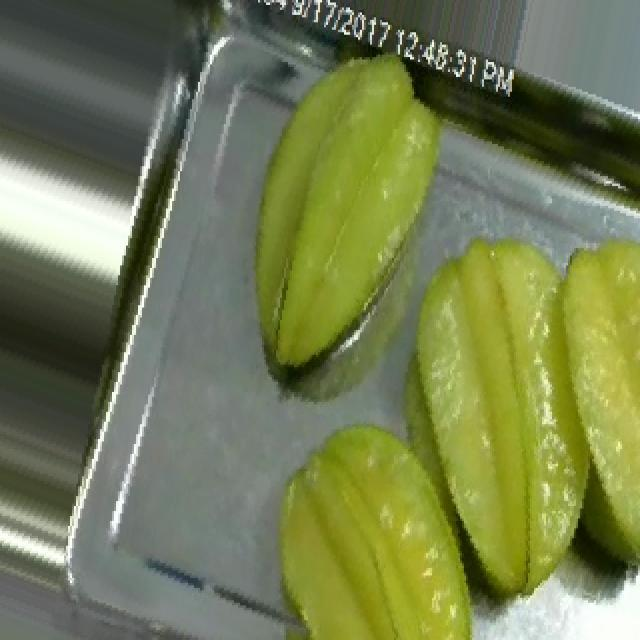fruit: (354, 201, 640, 613), (210, 32, 474, 397), (220, 389, 510, 640)
